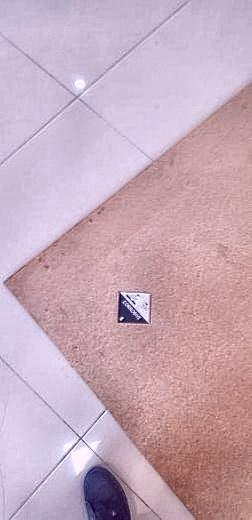corrosive: (117, 291, 152, 327)
